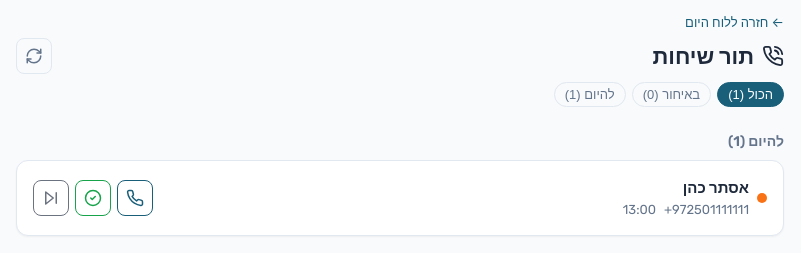
Test: CallsTodayPage › shows filter-specific zero-state when buckets are filtered to empty
The image size is (801, 253).
Check: the text "אסתר כהן" is shown, box [683,179,749,197]
Click the tab "באיחור (0)".
click(671, 94)  # box [632,82,711,107]
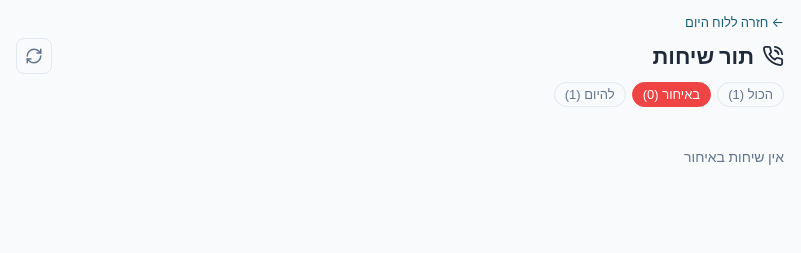
Check: the text "אין שיחות באיחור" is shown, box [684,149,784,166]
